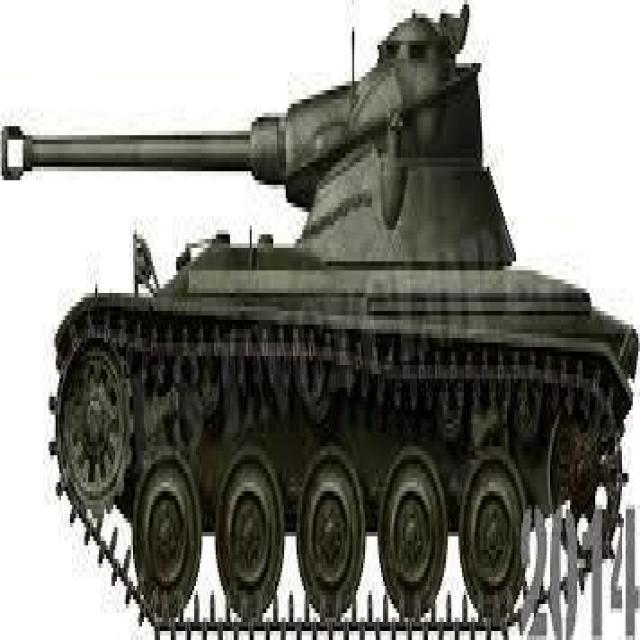Tanks: (2, 23, 570, 622)
